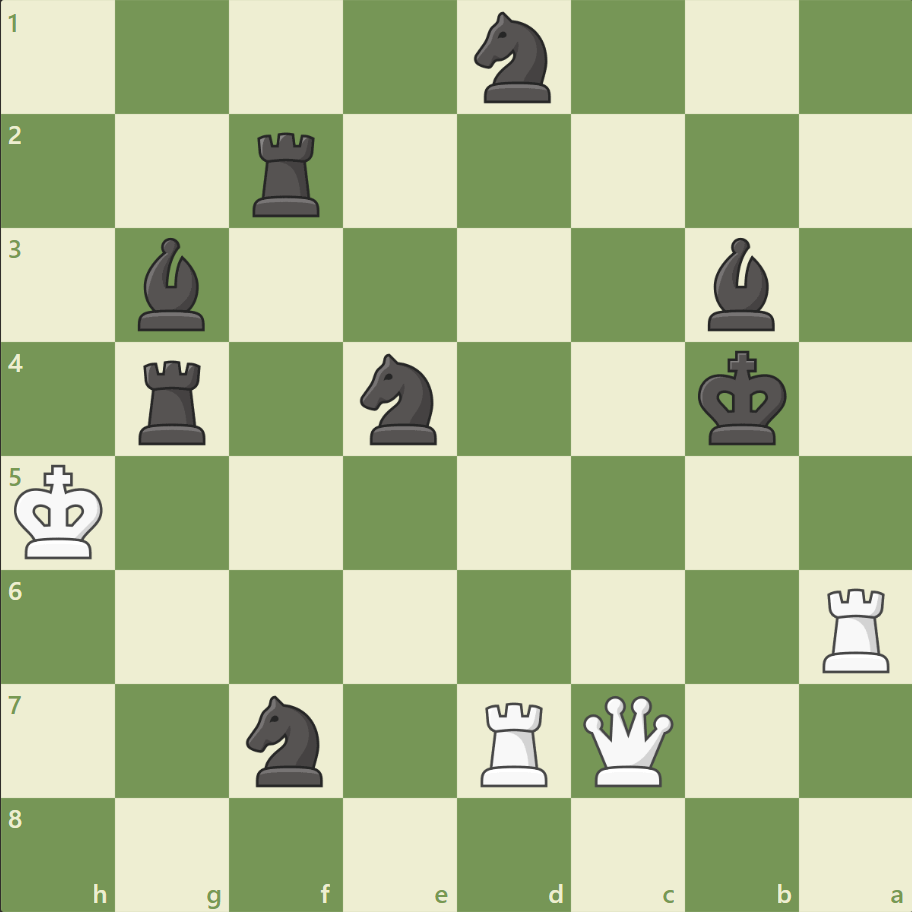K: (11, 458, 111, 566)
Q: (578, 690, 677, 789)
R: (473, 693, 556, 790), (814, 579, 897, 676)
b: (698, 233, 782, 336), (131, 233, 215, 336)
k: (692, 344, 792, 452)
n: (351, 348, 449, 450), (238, 688, 335, 791), (465, 7, 562, 110)
r: (246, 125, 329, 222), (133, 352, 215, 449)
